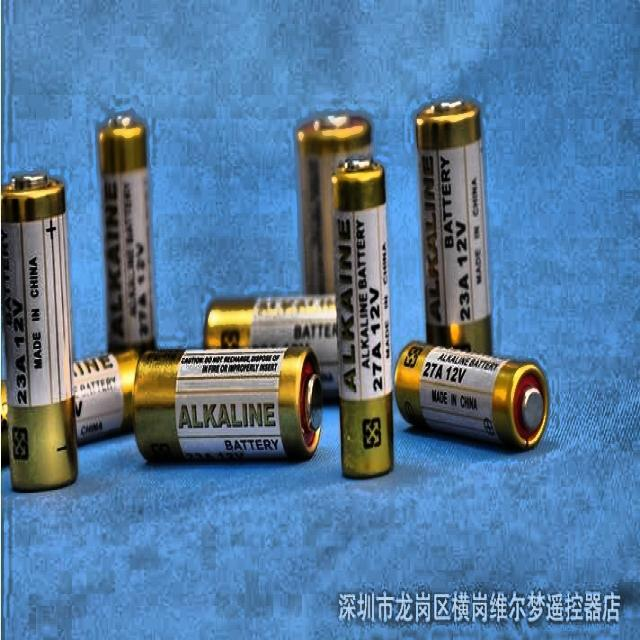Non-Valuable Waste - Batteries: (1, 173, 78, 490), (134, 347, 321, 462), (331, 157, 394, 477), (416, 99, 491, 352), (395, 343, 549, 449), (205, 293, 339, 401), (296, 116, 371, 292), (99, 116, 154, 346), (76, 347, 141, 443)
